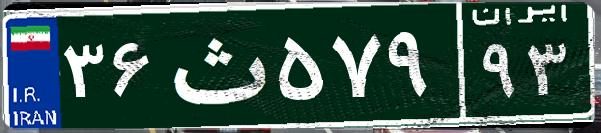3: (57, 26, 110, 107), (525, 38, 570, 115)
5: (273, 28, 330, 110)
6: (110, 28, 158, 105)
7: (330, 28, 385, 110)
9: (385, 28, 445, 110), (475, 38, 525, 113)
ث: (158, 15, 273, 115)
